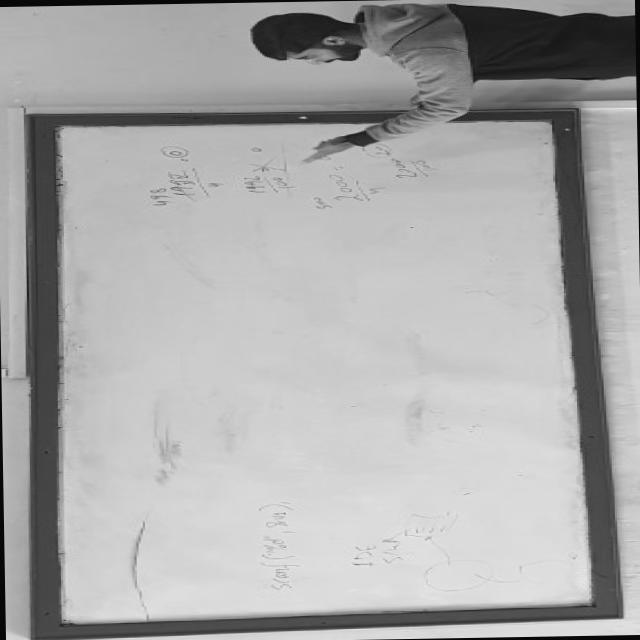Instructor: (221, 0, 633, 92)
White-board: (37, 115, 610, 631)
